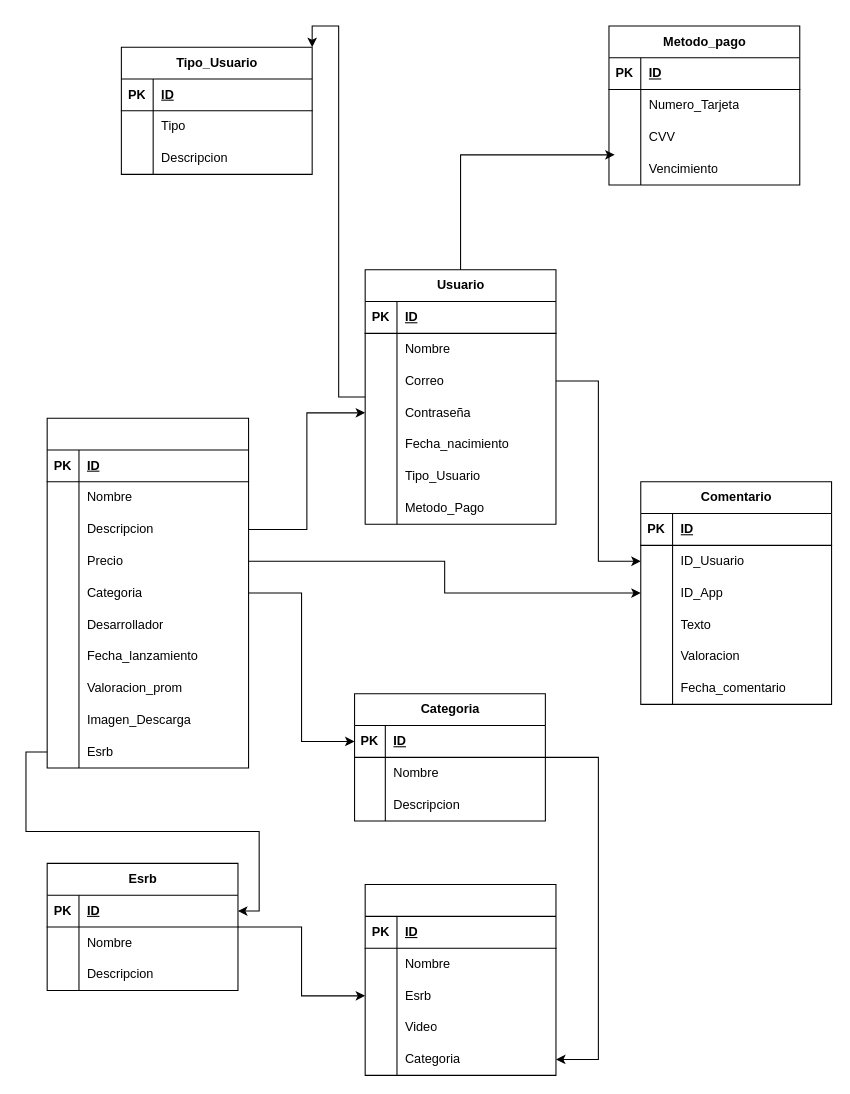
The diagram is 850 pixels wide and 1094 high, and some of its shapes have lost their labels. The box of each missing label's shape, as (x1, y1, x2, y2) in pixels:
Ads: (364, 884, 556, 1075)
App: (46, 417, 249, 768)
